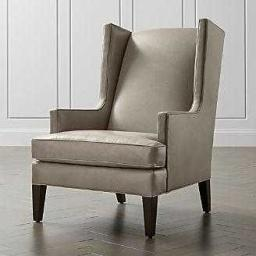Chair: (31, 27, 228, 236)
